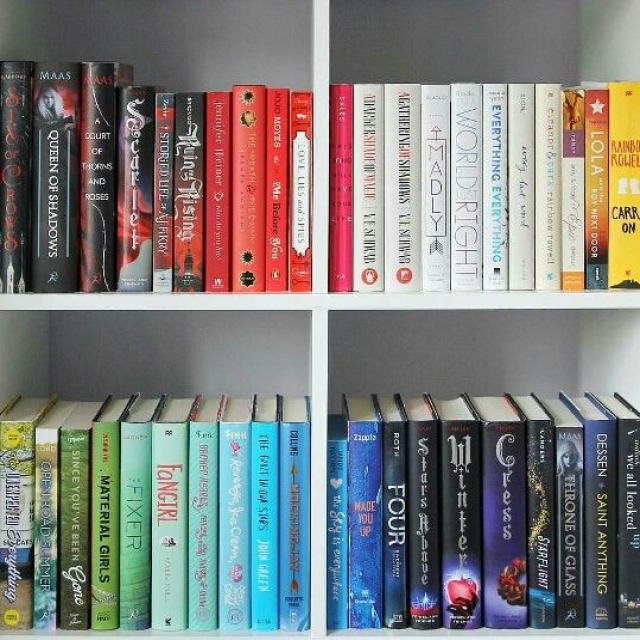book: (33, 61, 79, 294), (483, 421, 527, 629), (441, 420, 481, 629), (384, 84, 422, 292), (81, 62, 115, 290), (152, 423, 186, 631), (349, 421, 383, 628), (0, 422, 34, 629), (1, 59, 31, 292), (118, 87, 152, 291), (232, 84, 265, 290), (451, 83, 482, 292), (587, 420, 618, 629), (410, 421, 440, 630), (220, 422, 250, 630), (610, 82, 640, 288), (280, 421, 309, 632), (353, 84, 382, 292), (528, 419, 556, 629), (92, 422, 120, 630), (174, 94, 203, 292), (190, 421, 217, 630), (422, 84, 449, 292), (60, 429, 88, 629), (557, 426, 584, 629), (383, 422, 409, 630), (122, 422, 148, 629), (253, 422, 278, 630), (509, 84, 534, 290), (328, 84, 352, 292), (536, 83, 560, 290), (483, 83, 507, 289), (586, 90, 610, 289), (562, 88, 585, 291), (288, 91, 311, 293), (618, 418, 640, 628), (207, 92, 230, 292), (266, 87, 287, 292), (35, 429, 56, 629), (327, 439, 348, 631), (154, 94, 172, 292)
